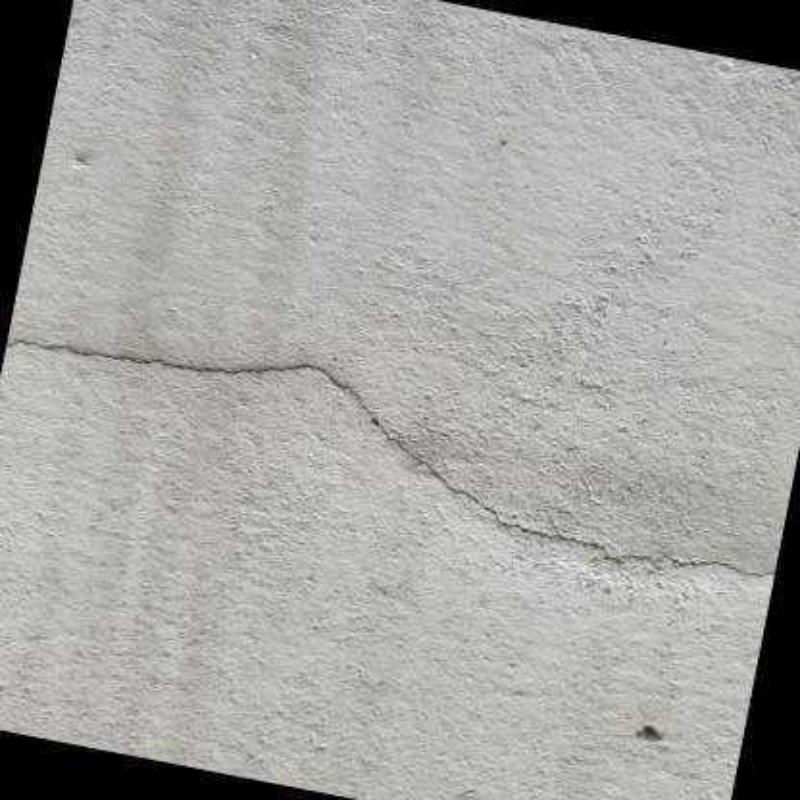pothole: (6, 341, 776, 577)
